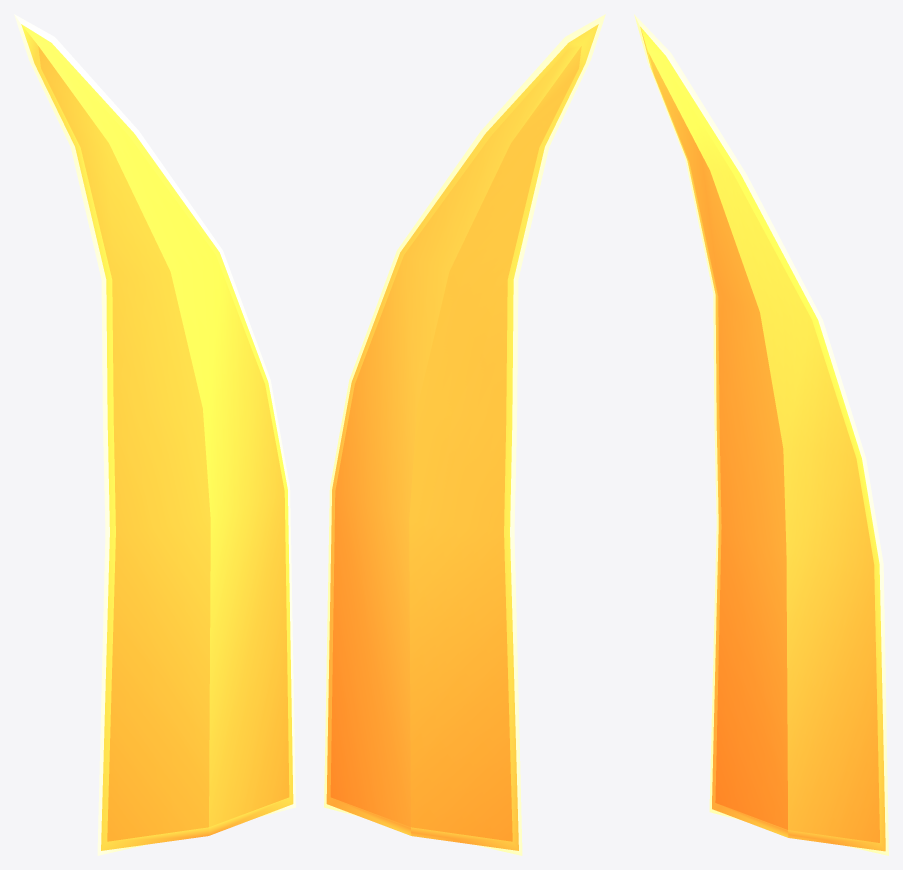
File: gold_blade (11).glb
3 views of the same model, side by side, from view 1: azimuth 30°, elevation 25°; view 2: azimuth 150°, elevation 25°; view 3: azimuth 330°, elevation 25° (orthographic). The views are drawn at different scales.
Parts seen in each view (by area): view 1: gold_blade_steel.032; view 2: gold_blade_steel.032; view 3: gold_blade_steel.032.
Part boxes in pixels (x1,y1,x2,y2): gold_blade_steel.032: (14, 14, 295, 855); gold_blade_steel.032: (324, 14, 605, 855); gold_blade_steel.032: (634, 14, 888, 855).
Size of the model in its own units: 4.2 by 12.29 by 0.7262.
1 material, 1 textured.
